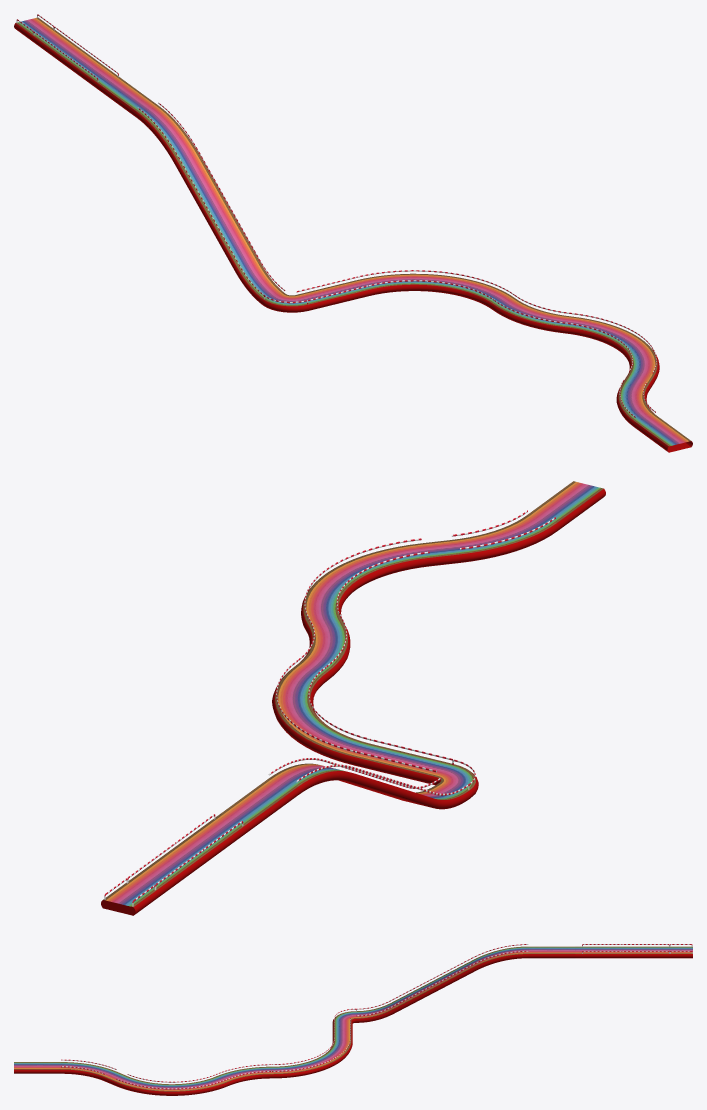
The model's file is map48.fbx.
The picture shows the model from 3 angles, top to bottom: view 1: azimuth 30°, elevation 25°; view 2: azimuth 150°, elevation 25°; view 3: azimuth 270°, elevation 25°; orthographic projection. The views are drawn at different scales.
Parts seen in each view (by area): view 1: Dummy_Start_1; view 2: Dummy_Start_1; view 3: Dummy_Start_1.
Boxes of the visible parts, <box> form: Dummy_Start_1: <box>14,14,692,452</box>; Dummy_Start_1: <box>101,481,605,915</box>; Dummy_Start_1: <box>14,944,692,1095</box>.
Size of the model in its own units: 4916 by 2016 by 17302.
6 materials, 4 textured.
